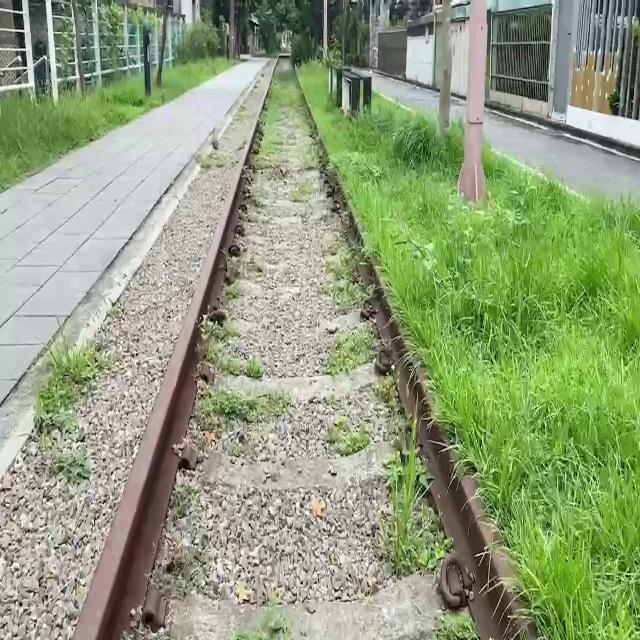rail-track: (126, 60, 404, 640)
